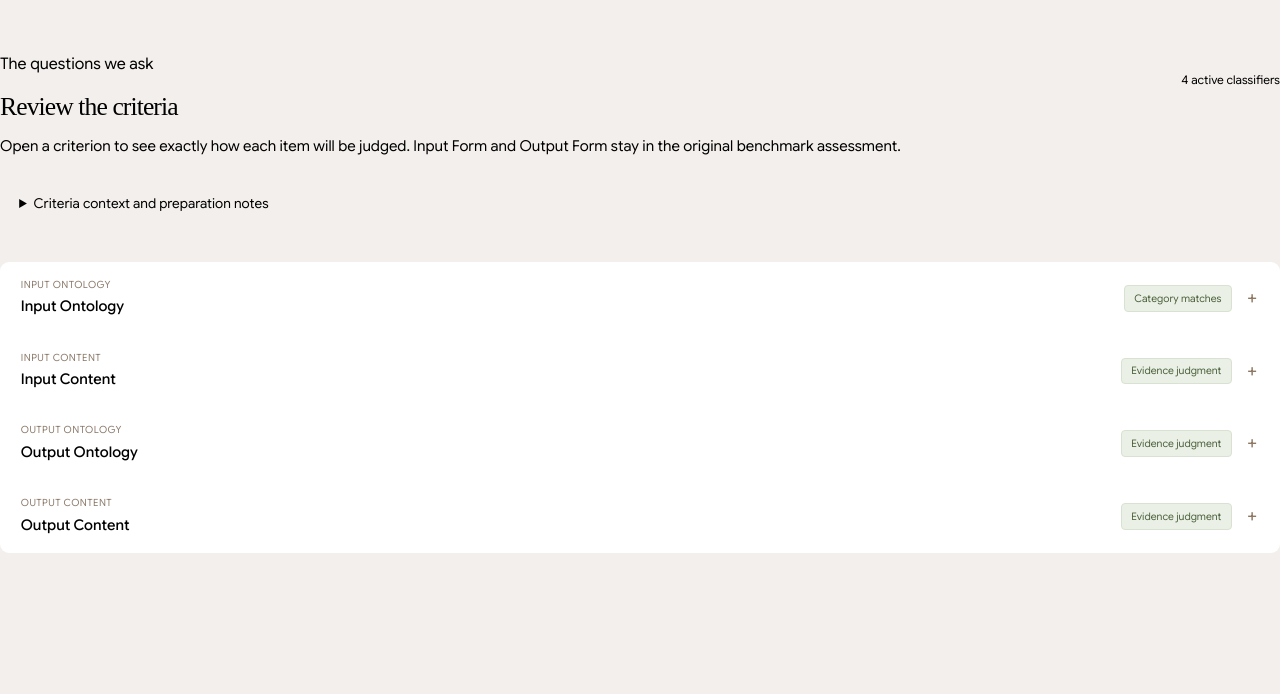
Test case: presents registered sources as individually expandable readable fields
This screenshot has width=1280, height=694.
Click the heading "Criteria context and preparation notes" at (151, 204), box [34,195,269,212]
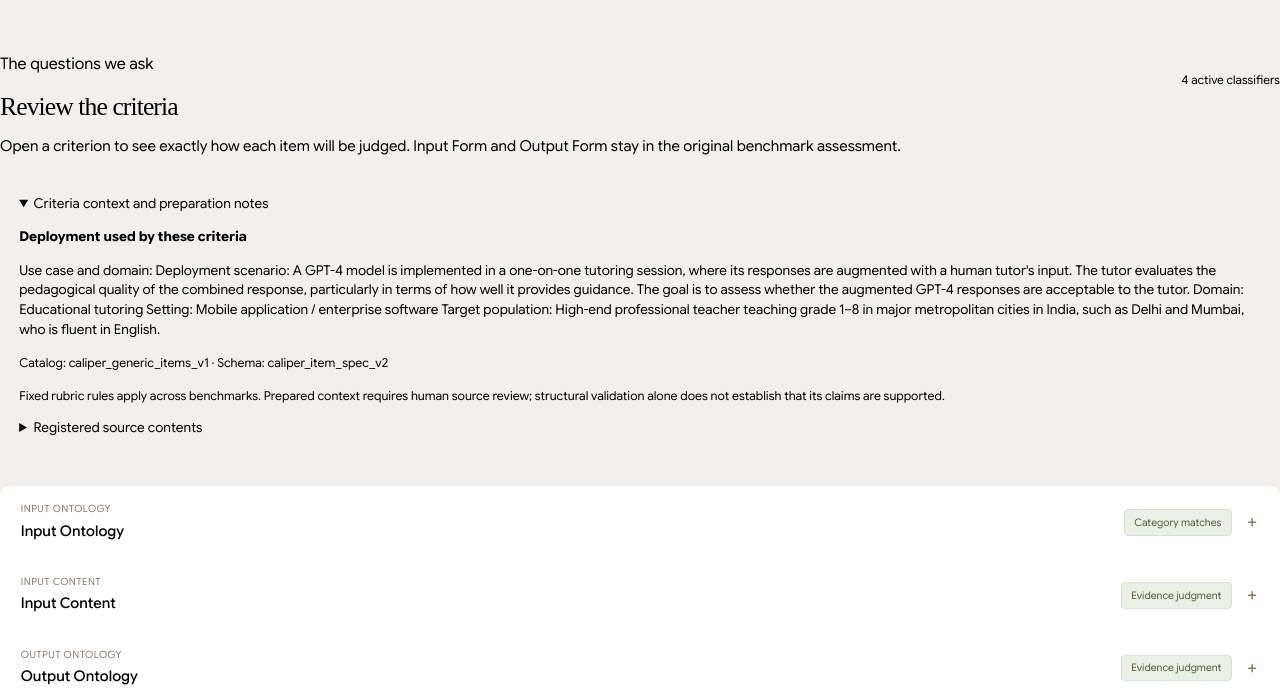
Click the heading "Registered source contents" at (118, 428), box [34,419,202,436]
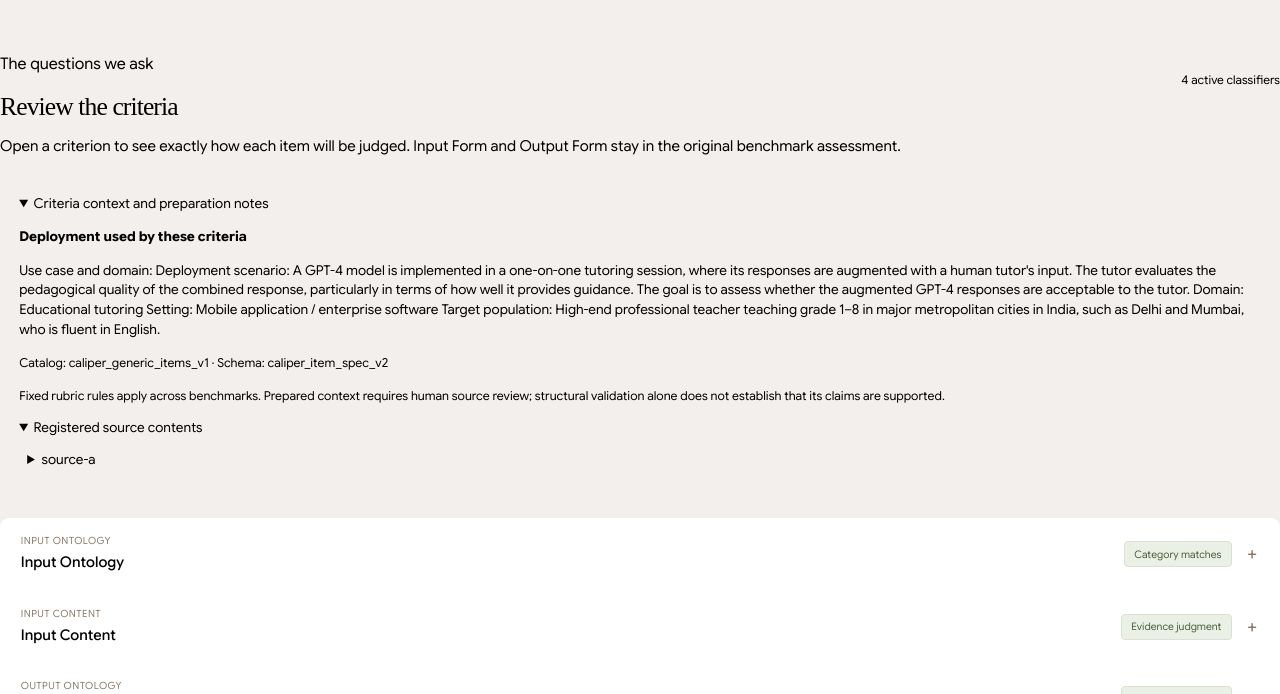
Click the heading "source-a" at (69, 460), box [42,451,96,468]
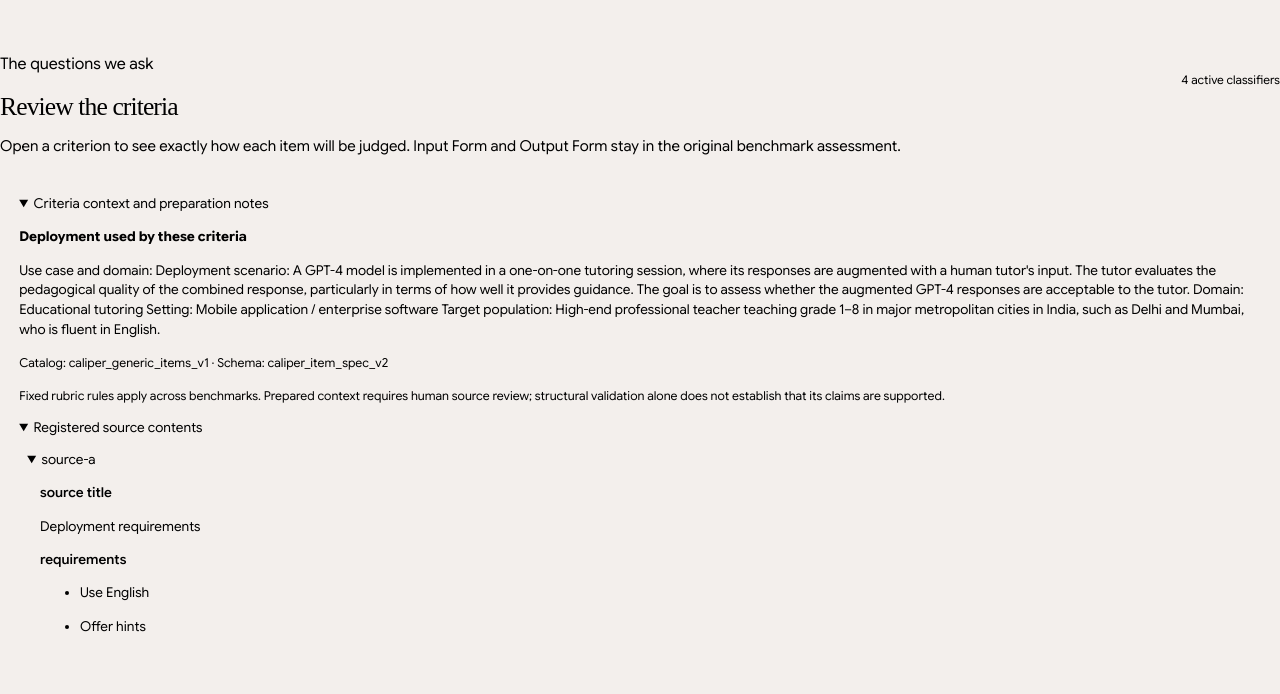
Now the text "Deployment requirements" is shown, box [40,518,201,535]
Now the text "Offer hints" is shown, box [80,618,146,634]
